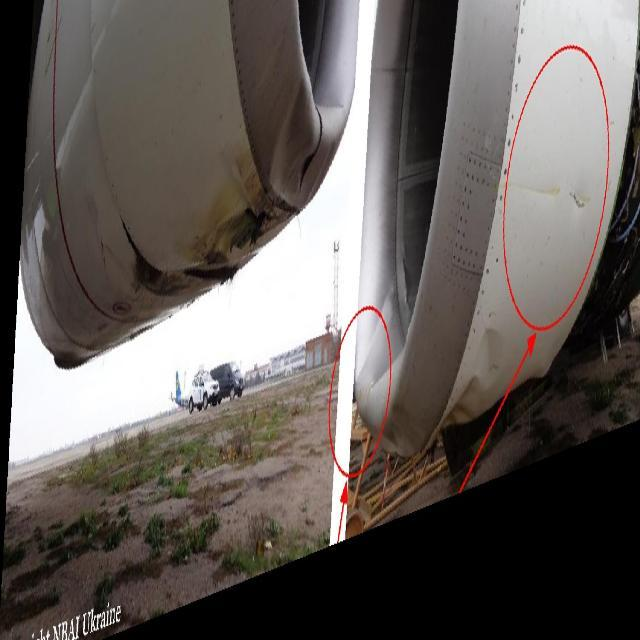crack: (566, 186, 587, 216)
dent: (438, 326, 506, 440)
